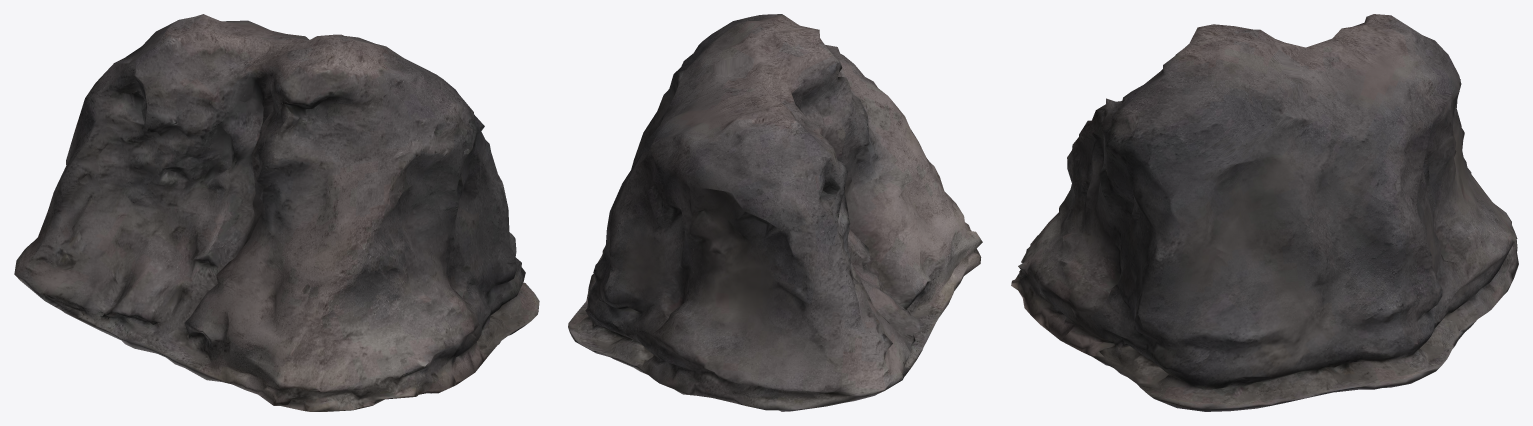
Rendered from rock01.glb.
The picture shows the model from 3 angles, left to right: view 1: azimuth 30°, elevation 25°; view 2: azimuth 150°, elevation 25°; view 3: azimuth 270°, elevation 25°; orthographic projection. The views are drawn at different scales.
Visible parts, largest first — view 1: tripo_node_ace7cac9-8792-4207-ab2b-a8020f390797; view 2: tripo_node_ace7cac9-8792-4207-ab2b-a8020f390797; view 3: tripo_node_ace7cac9-8792-4207-ab2b-a8020f390797.
Boxes of the visible parts, left/top/right/bottom form: tripo_node_ace7cac9-8792-4207-ab2b-a8020f390797: left=14, top=14, right=539, bottom=411; tripo_node_ace7cac9-8792-4207-ab2b-a8020f390797: left=568, top=14, right=982, bottom=411; tripo_node_ace7cac9-8792-4207-ab2b-a8020f390797: left=1011, top=14, right=1518, bottom=411.
Size of the model in its own units: 0.9108 by 0.635 by 1.
1 material, 1 textured.
